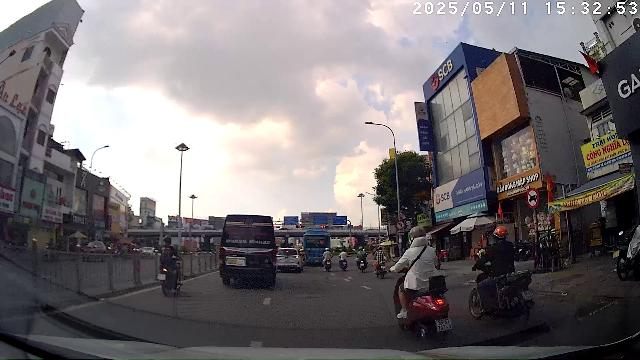123a-cam-re-trai: (396, 221, 404, 229)
